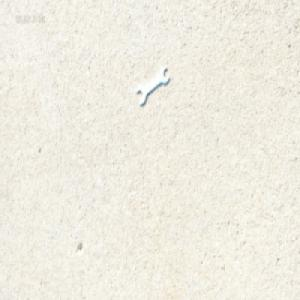Wrench: (136, 67, 169, 106)
